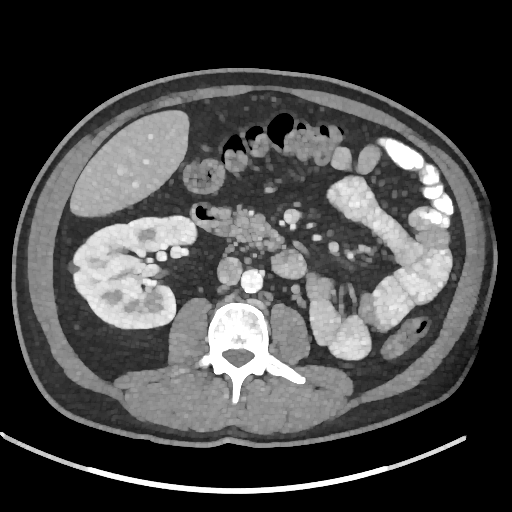Lesion: (62, 255, 83, 279)
